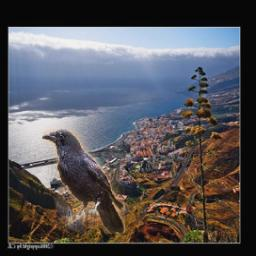Crow: (42, 130, 125, 235)
